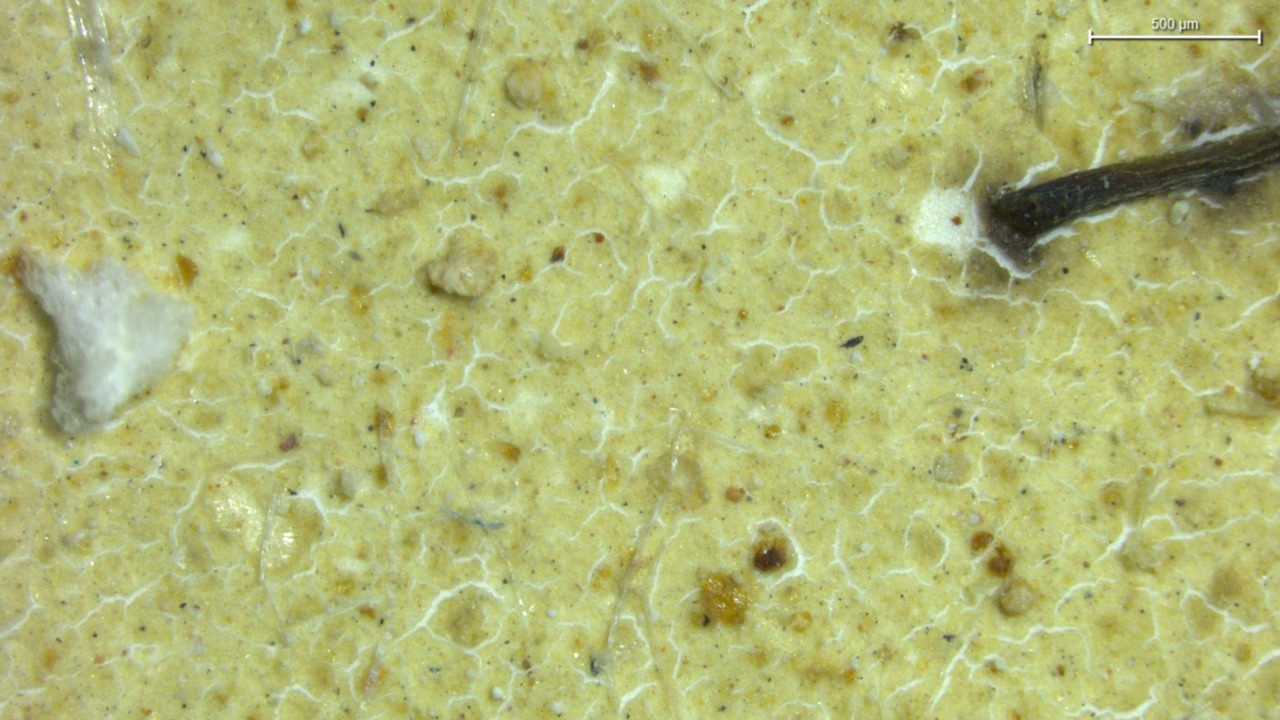microplastic_fragment: (3, 247, 197, 443), (430, 224, 494, 297)
